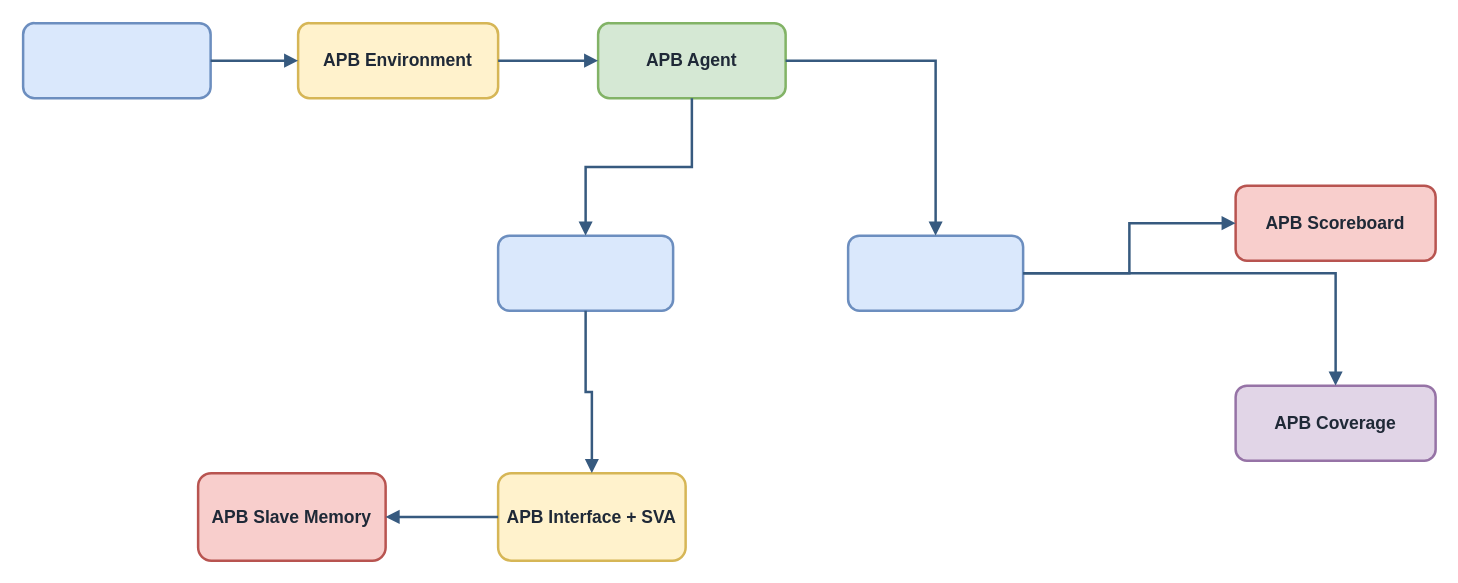
Image size: 1458x583. Some labels were removed from this diagram. Here are the shapes that lost their labels. From the top down, the centre of each, then its label:
the point at 116,60: APB Test Library
the point at 585,272: Driver
the point at 935,272: Monitor
